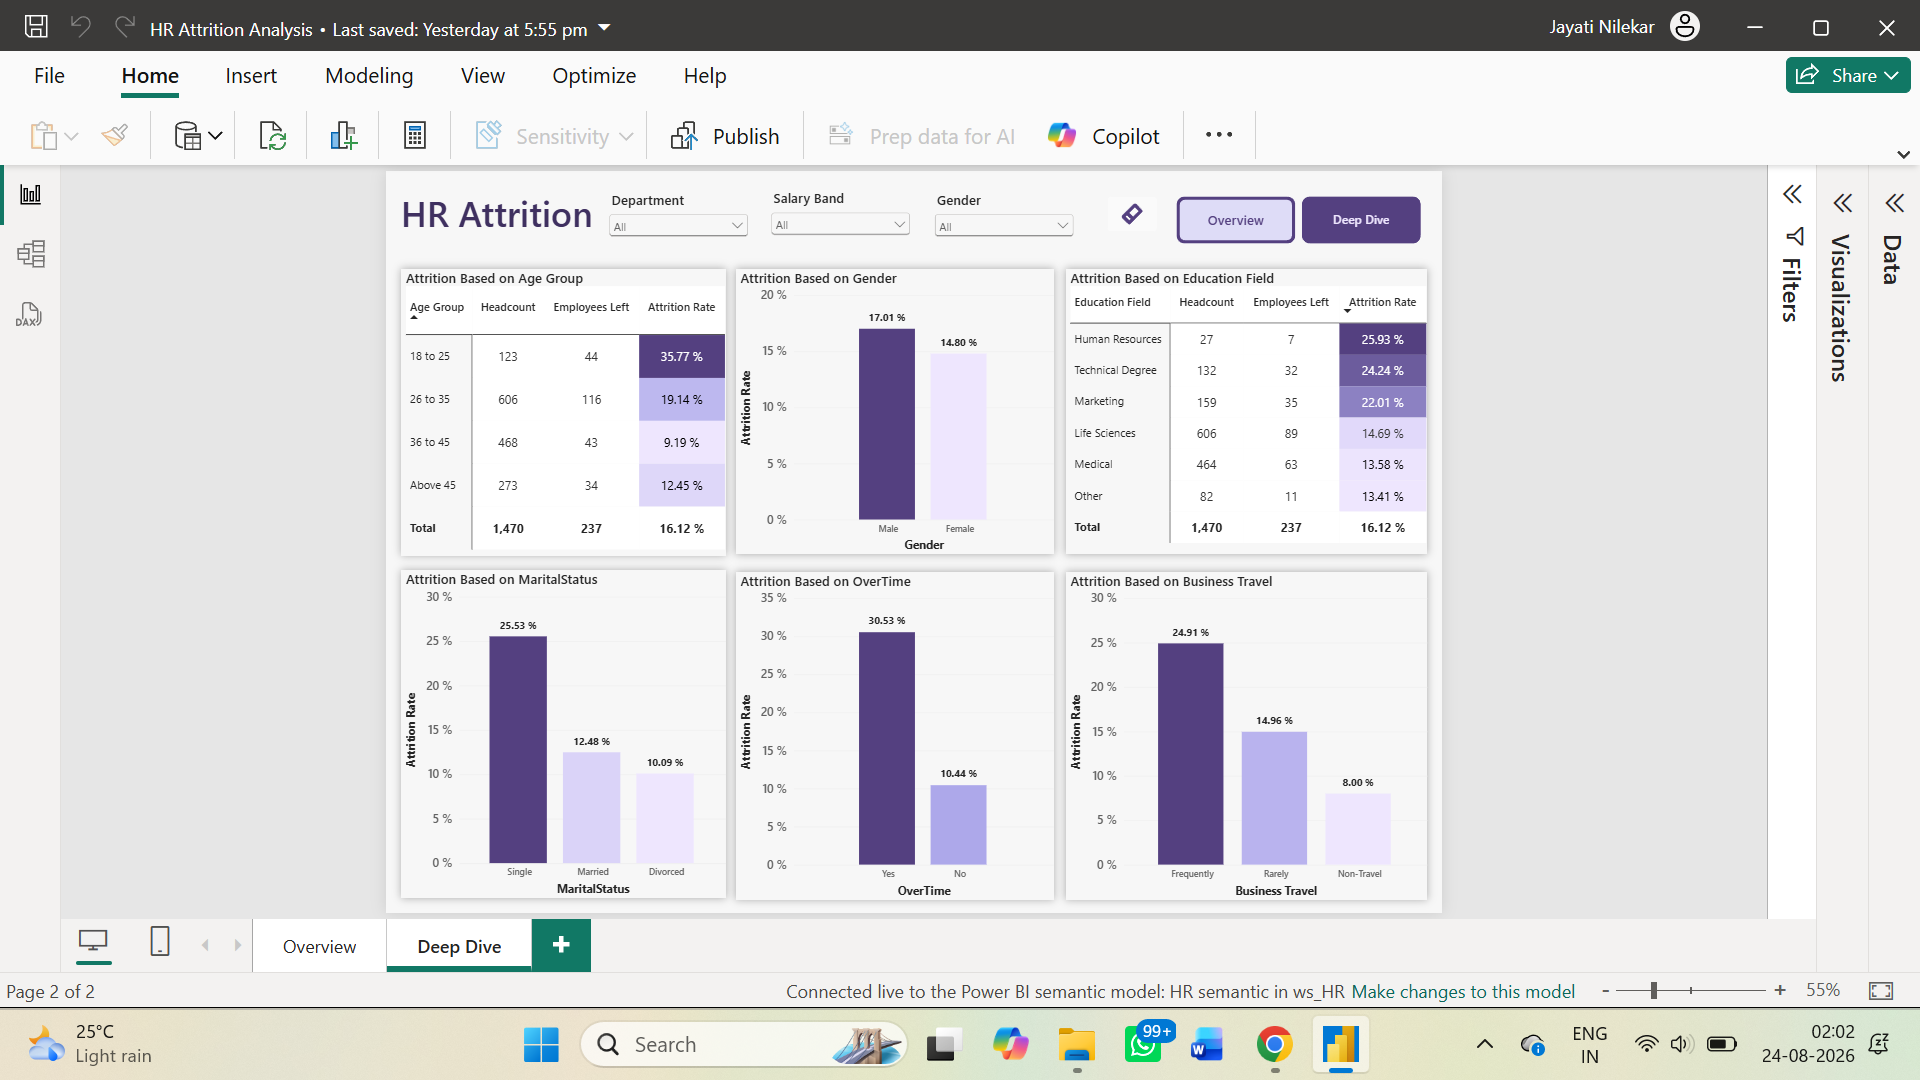

What the dashboard file says about the page in this screenshot:
{"tool":"powerbi","page":{"name":"Deep Dive","canvas":[1280,900],"ordinal":1},"visuals":[{"type":"clusteredColumnChart","title":"Attrition Based on MaritalStatus","fields":{"Category":["HR_employees.MaritalStatus"],"Y":["HR_employees.Attrition %"]},"box":[18.4,483.7,393.9,398],"z":0},{"type":"clusteredColumnChart","title":"Attrition Based on Business Travel","fields":{"Category":["HR_employees.BusinessTravel"],"Y":["HR_employees.Attrition %"]},"box":[824.5,485.7,438.8,398],"z":1000},{"type":"clusteredColumnChart","title":"Attrition Based on OverTime","fields":{"Category":["HR_employees.OverTime"],"Y":["HR_employees.Attrition %"]},"box":[424.5,485.7,385.7,398],"z":2000},{"type":"clusteredColumnChart","title":"Attrition Based on Gender","fields":{"Category":["HR_employees.Gender"],"Y":["HR_employees.Attrition %"]},"box":[424.5,118.4,385.7,346.9],"z":3000},{"type":"pivotTable","title":"Attrition Based on Age Group","fields":{"Rows":["HR_employees.Age Group"],"Values":["HR_employees.Total Employees","HR_employees.Employees Left","HR_employees.Attrition %"]},"box":[18,118,394,348],"z":4000},{"type":"pivotTable","title":"Attrition Based on Education Field","fields":{"Rows":["HR_employees.EducationField"],"Values":["HR_employees.Total Employees","HR_employees.Employees Left","HR_employees.Attrition %"]},"box":[824.5,118.4,438.8,346.9],"z":5000},{"type":"textbox","box":[17.5,22.5,280,77.5],"z":6000},{"type":"actionButton","box":[875,30,60,42.5],"z":10000},{"type":"pageNavigator","box":[958.3,30,297.5,57.5],"z":11000},{"type":"slicer","fields":{"Values":["HR_employees.Department"]},"box":[265,23.7,178,73],"z":11001},{"type":"slicer","fields":{"Values":["HR_employees.Salary Band"]},"box":[462.3,22.7,178.3,73.3],"z":11002},{"type":"slicer","fields":{"Values":["HR_employees.Gender"]},"box":[660,24.3,178,73],"z":11003}]}

Visuals, with their boxes on the page's 1280x900 design canvas (x1, y1, x2, y2). These are canvas units, not pixel positions in the 1920x1080 screenshot, which may show the page scaled, cropped or inside an application window:
"Attrition Based on MaritalStatus" clusteredColumnChart: crop(18, 484, 412, 882)
"Attrition Based on Business Travel" clusteredColumnChart: crop(824, 486, 1263, 884)
"Attrition Based on OverTime" clusteredColumnChart: crop(424, 486, 810, 884)
"Attrition Based on Gender" clusteredColumnChart: crop(424, 118, 810, 465)
"Attrition Based on Age Group" pivotTable: crop(18, 118, 412, 466)
"Attrition Based on Education Field" pivotTable: crop(824, 118, 1263, 465)
textbox: crop(18, 22, 298, 100)
actionButton: crop(875, 30, 935, 72)
pageNavigator: crop(958, 30, 1256, 88)
slicer - HR_employees.Department: crop(265, 24, 443, 97)
slicer - HR_employees.Salary Band: crop(462, 23, 641, 96)
slicer - HR_employees.Gender: crop(660, 24, 838, 97)
